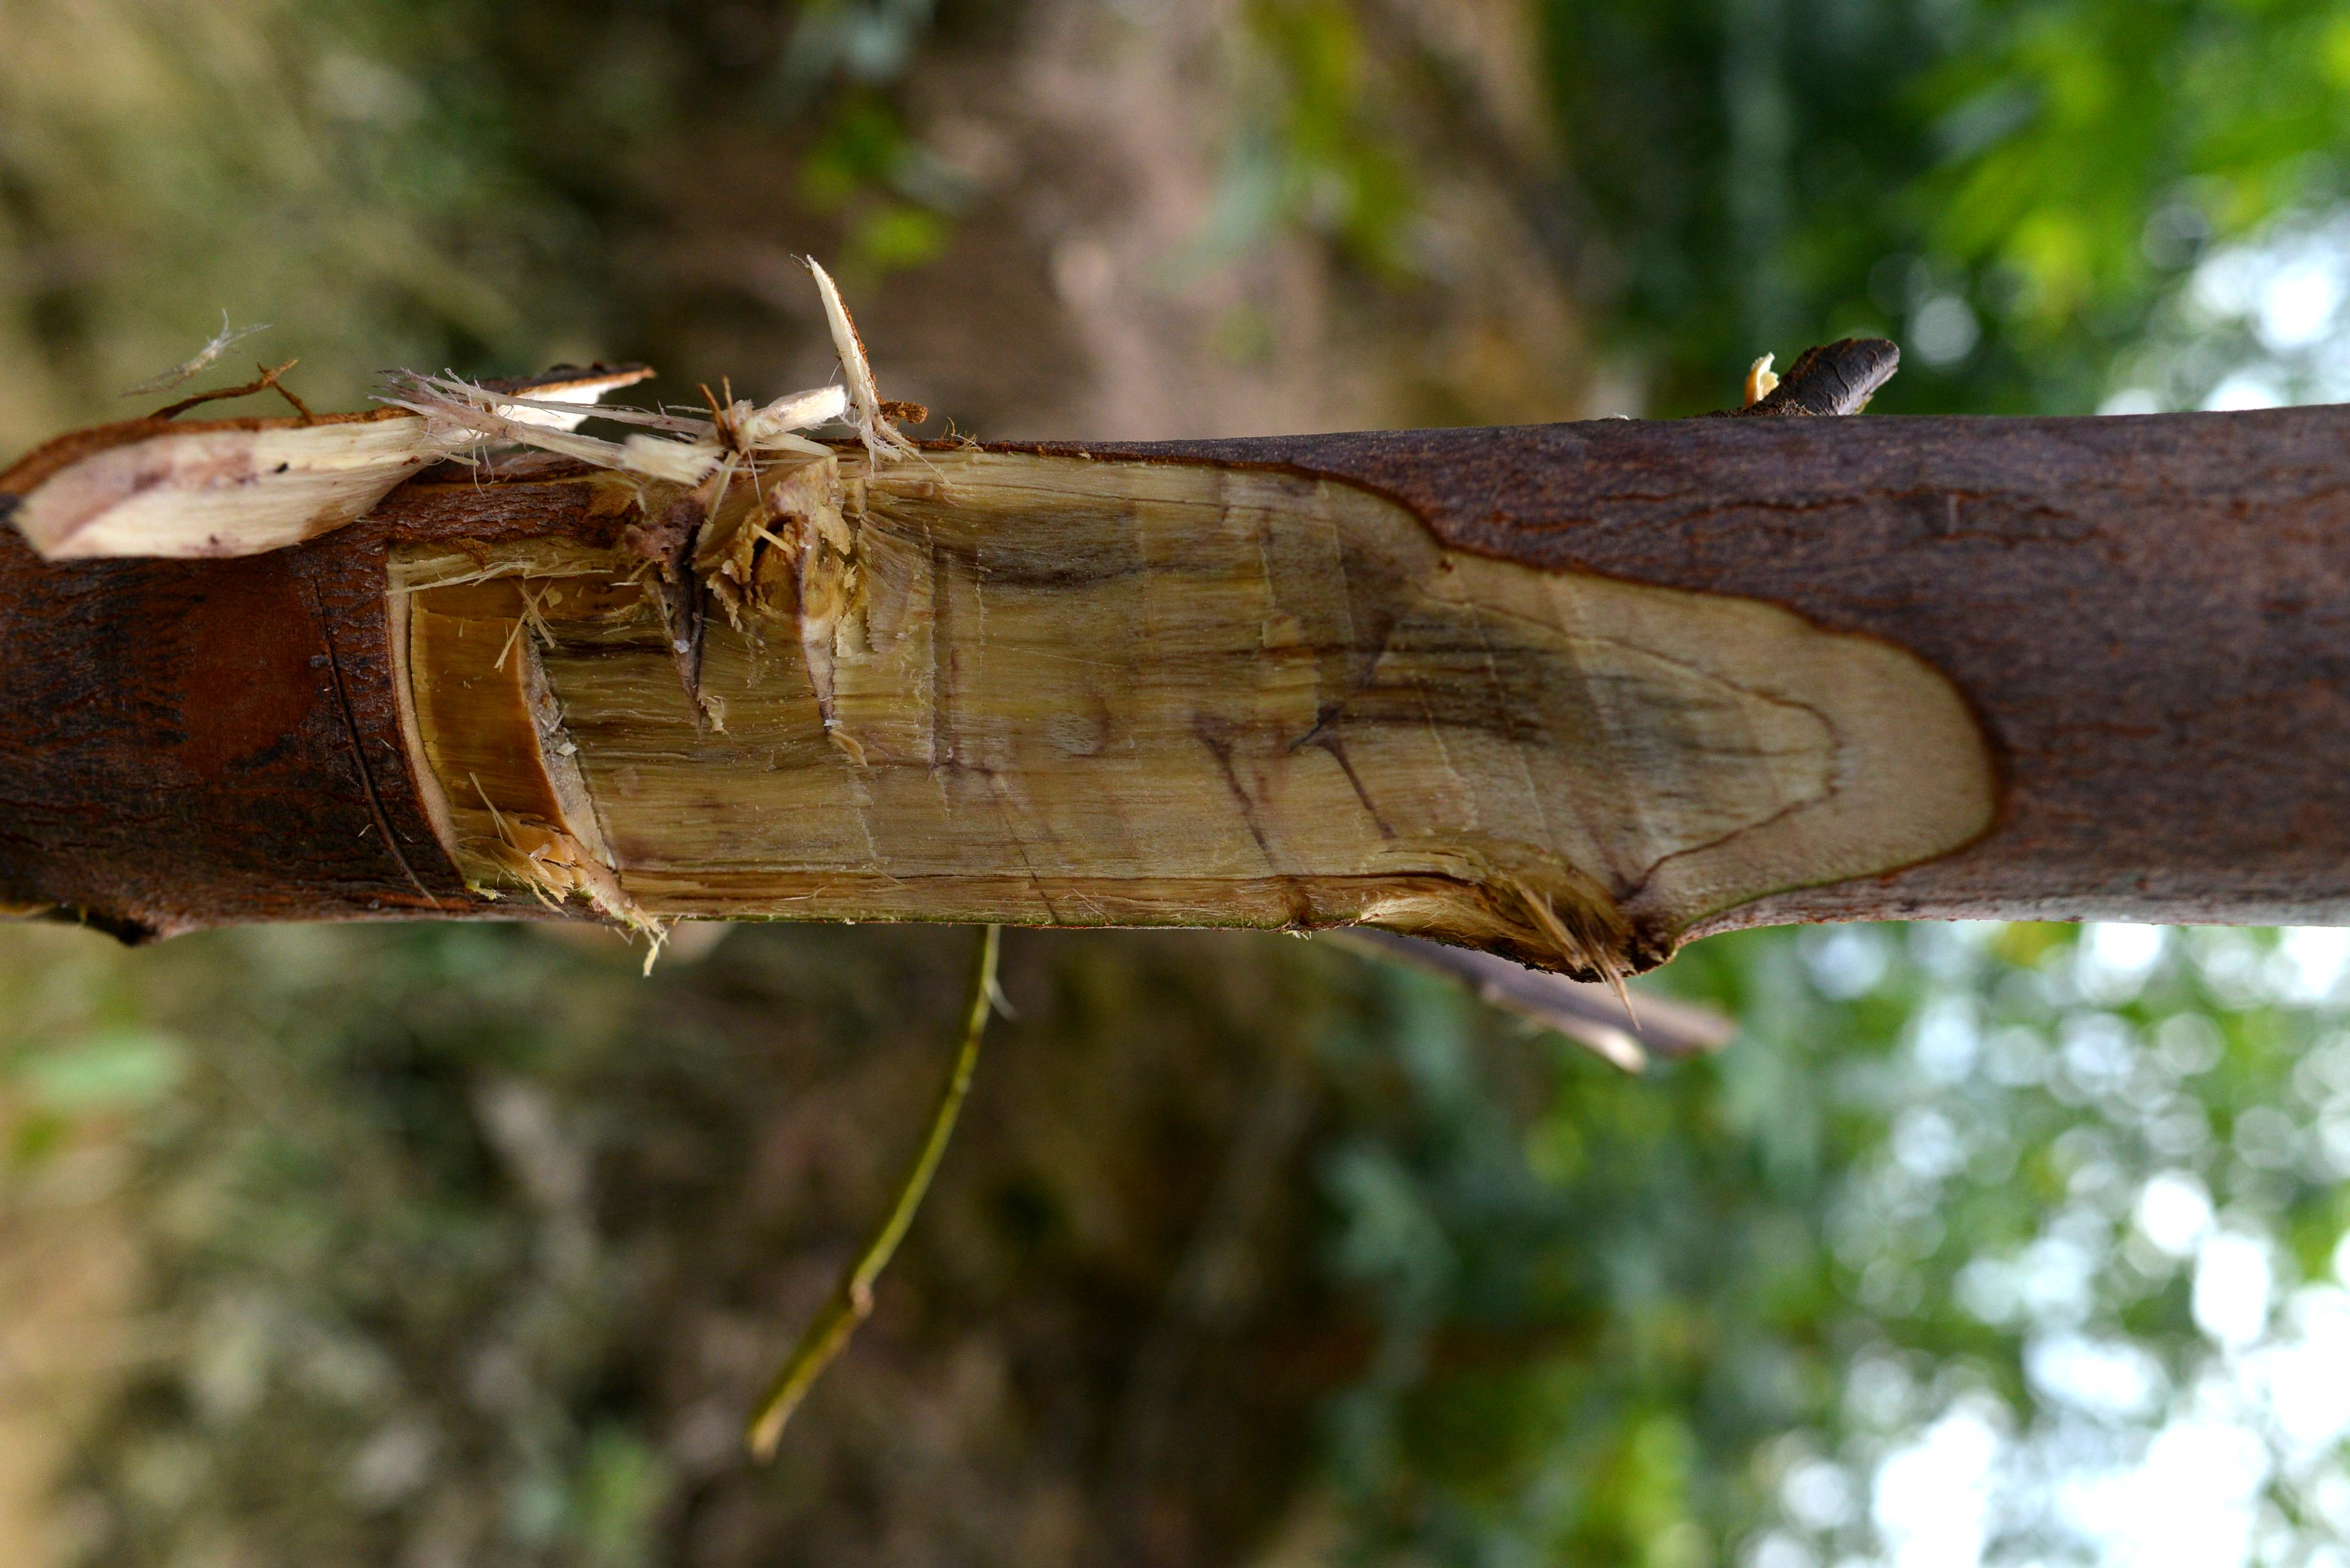Ralstonia: (537, 479, 1900, 910)
